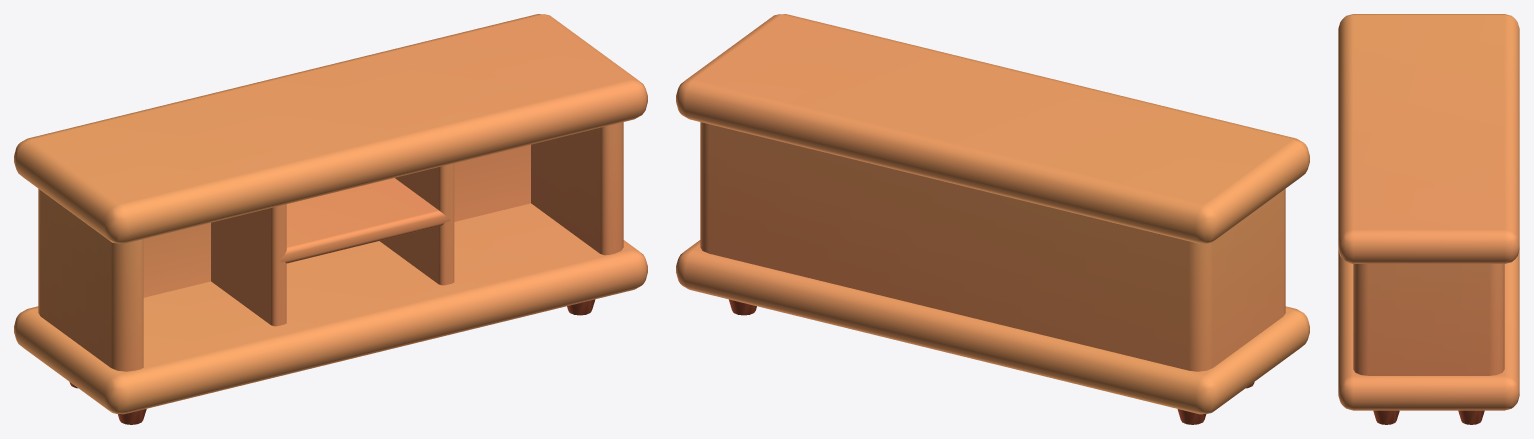
The model's file is TV_Stand_02.glb.
The picture shows the model from 3 angles, left to right: view 1: azimuth 30°, elevation 25°; view 2: azimuth 150°, elevation 25°; view 3: azimuth 270°, elevation 25°; orthographic projection. The views are drawn at different scales.
Visible parts, largest first — view 1: TV_Stand_02; view 2: TV_Stand_02; view 3: TV_Stand_02.
Part boxes in pixels (x1,y1,x2,y2): TV_Stand_02: (14,14,647,424); TV_Stand_02: (676,14,1309,424); TV_Stand_02: (1338,14,1519,424).
Size of the model in its own units: 1.42 by 0.6025 by 0.48.
1 material, 1 textured.
